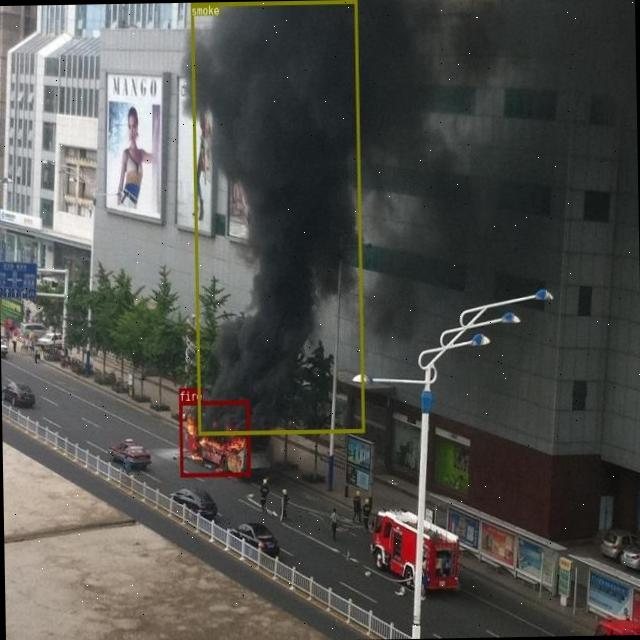fire: (178, 400, 250, 476)
smoke: (190, 0, 364, 434)
